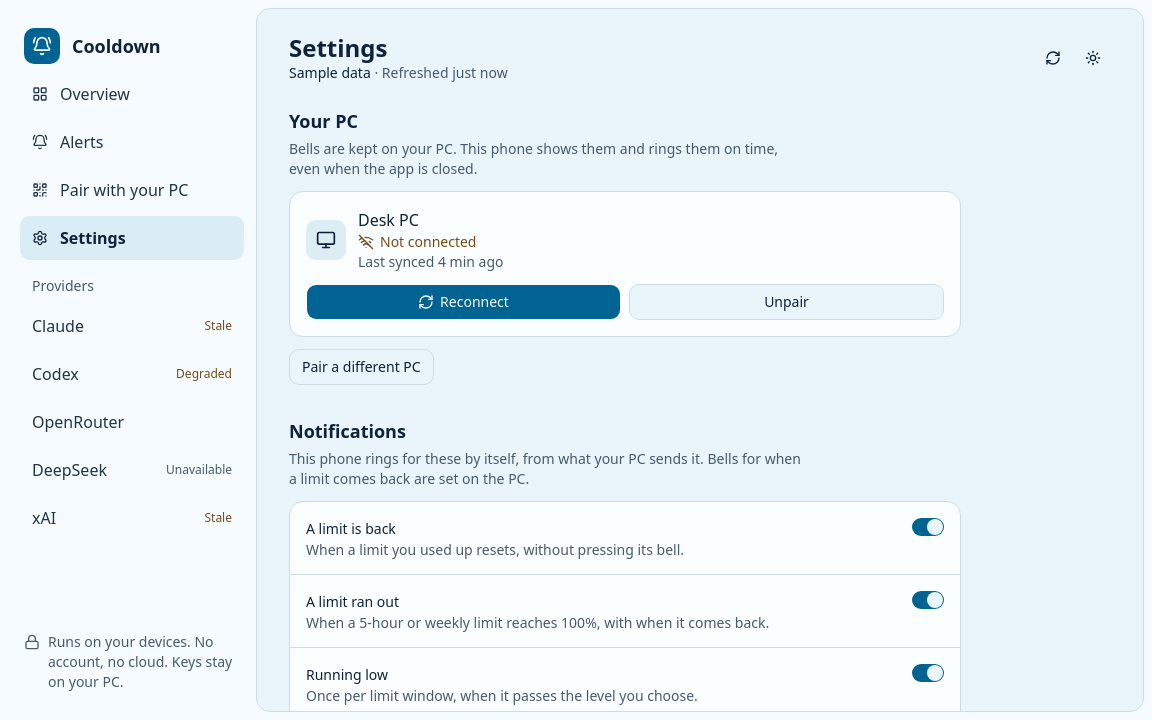
Phone settings › says why a reconnect failed and keeps the old state
What coordinates should you click on to do the following:
click the button "Reconnect"
I would click on:
 (464, 302)
Its box is [306,284,621,320].
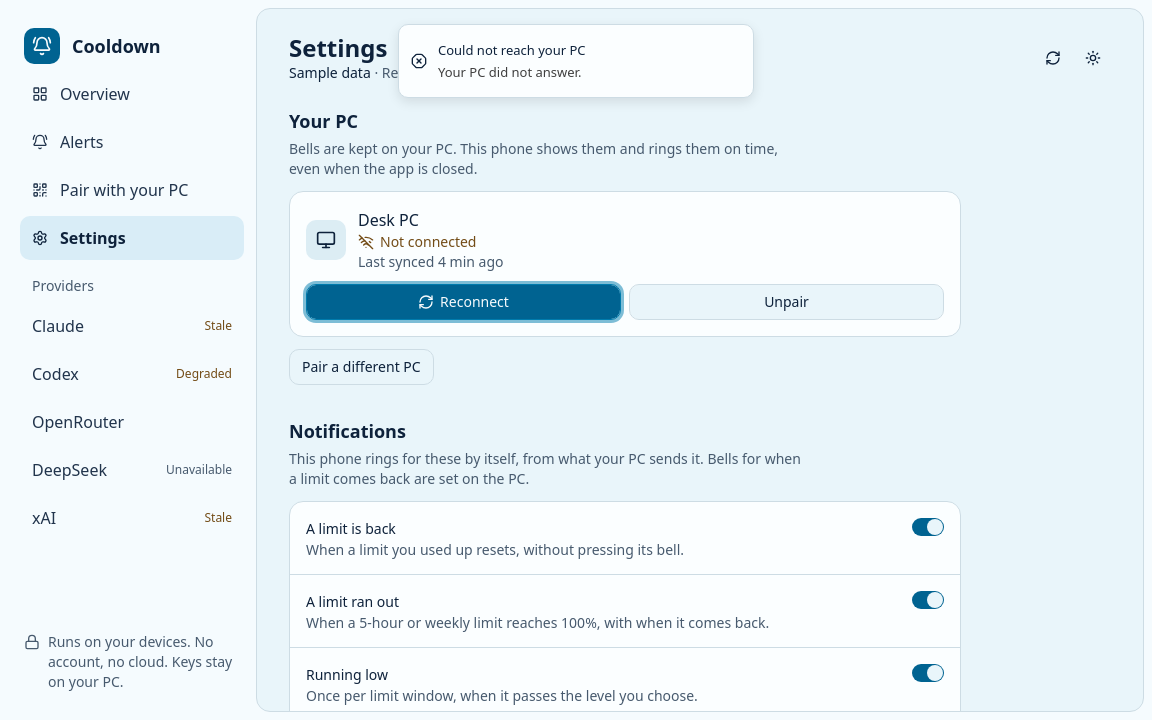
Check: the text "Not connected" is shown, box [358,232,476,251]
Check: the text "Your PC did not answer." is shown, box [438,62,586,81]
